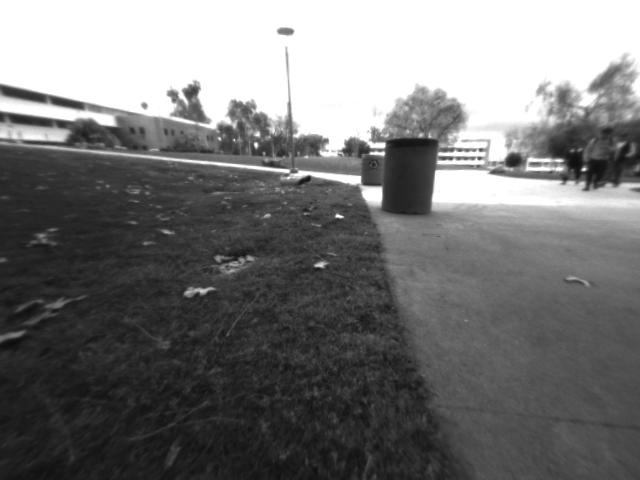trashcan: (383, 125, 445, 228), (355, 143, 382, 192)
